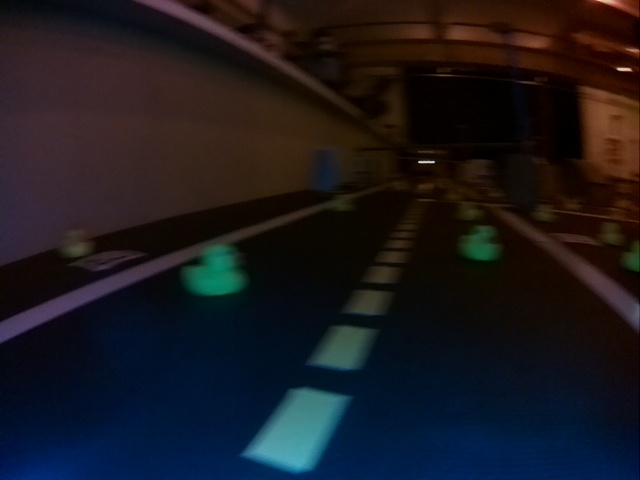Duckie: (182, 244, 246, 296), (461, 224, 504, 263), (58, 230, 87, 257)
QR code: (73, 248, 146, 270)
